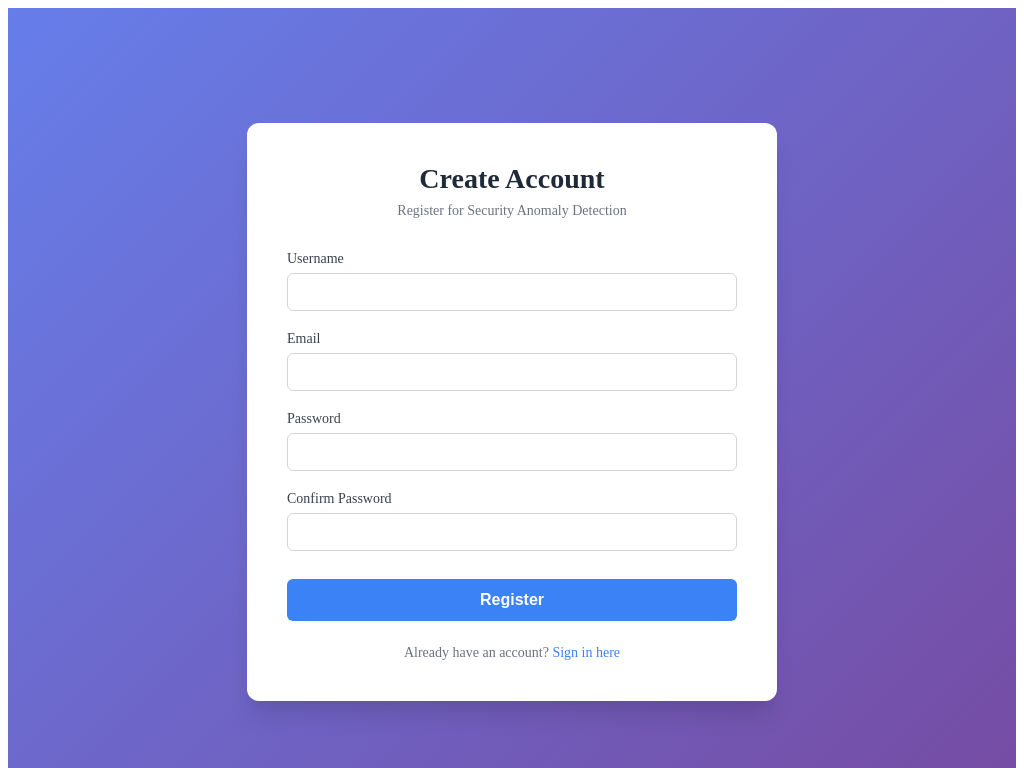
Test case: Register Component › should display error message on failed registration
In the field labelled "Username": (512, 292) left=287, top=273, right=737, bottom=311, type "existinguser"
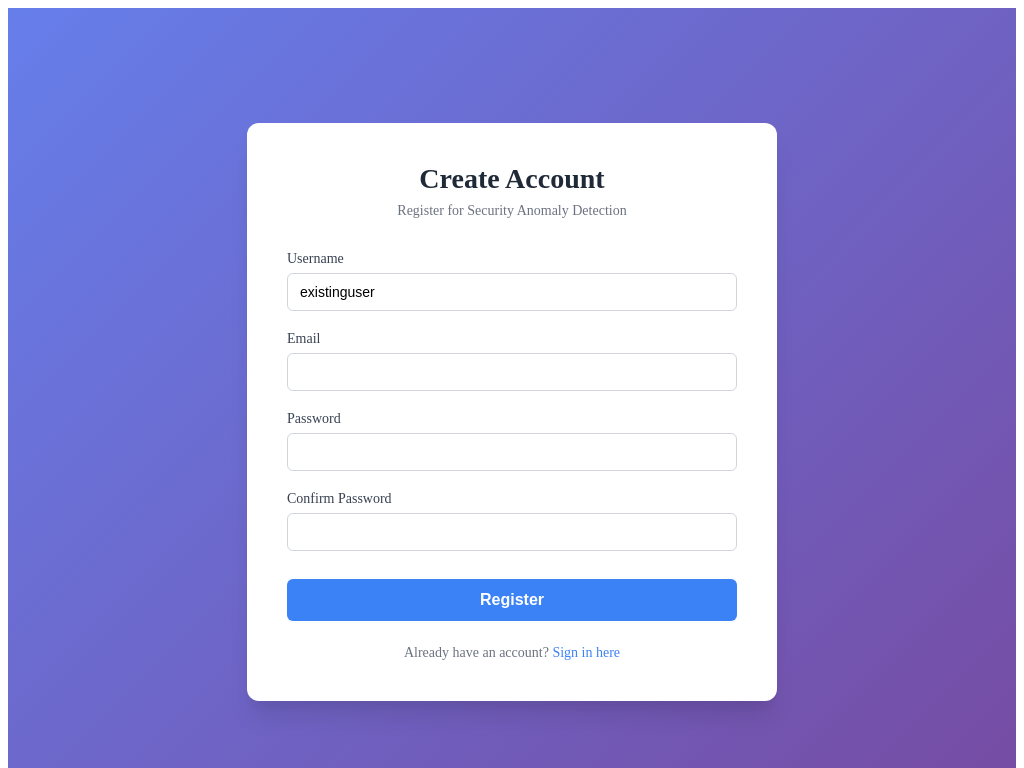
In the field labelled "Email": (512, 372) left=287, top=353, right=737, bottom=391, type "test@example.com"
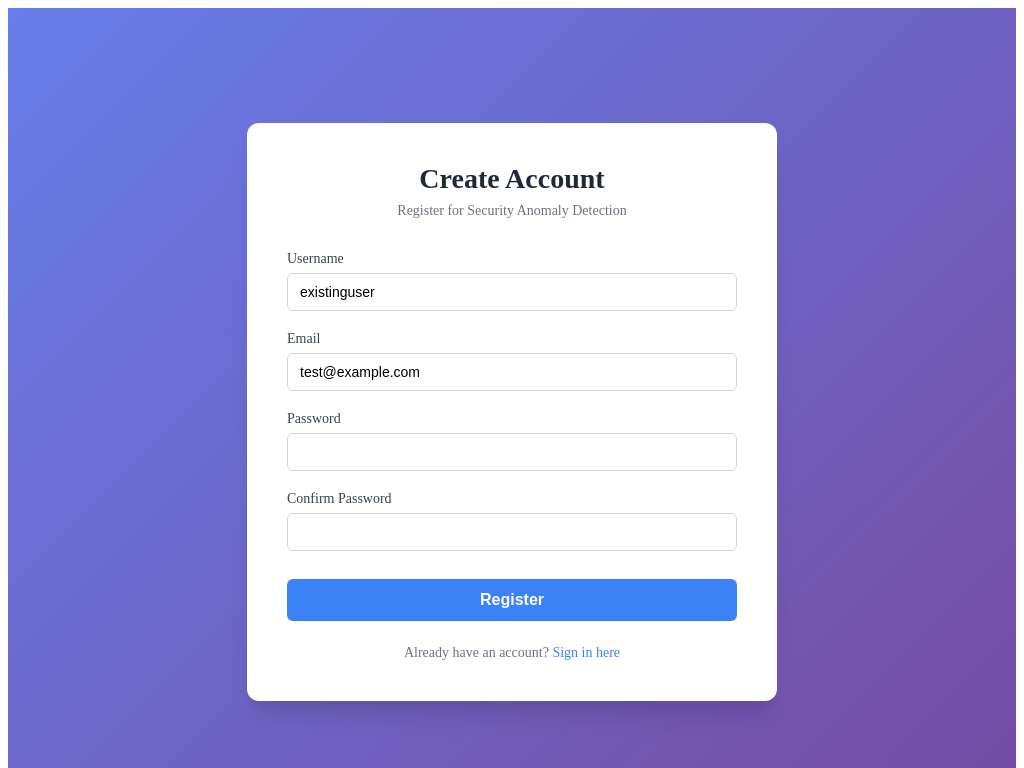
In the password field labelled "Password": (512, 452) left=287, top=433, right=737, bottom=471, type "password123"
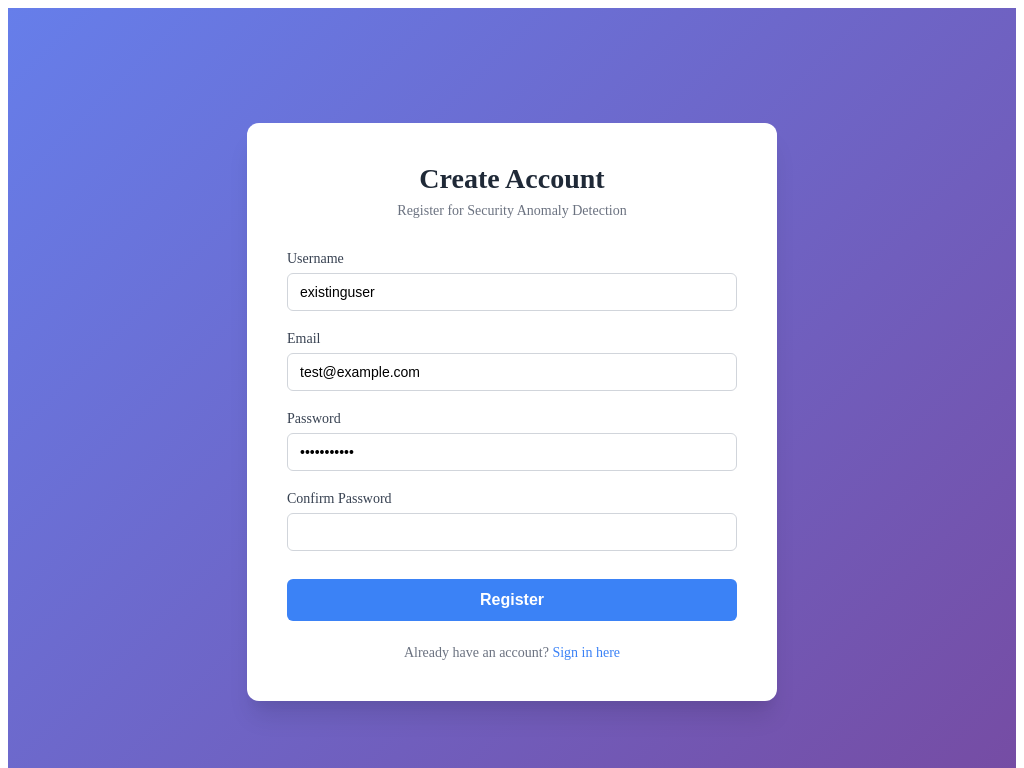
In the password field labelled "Confirm Password": (512, 532) left=287, top=513, right=737, bottom=551, type "password123"
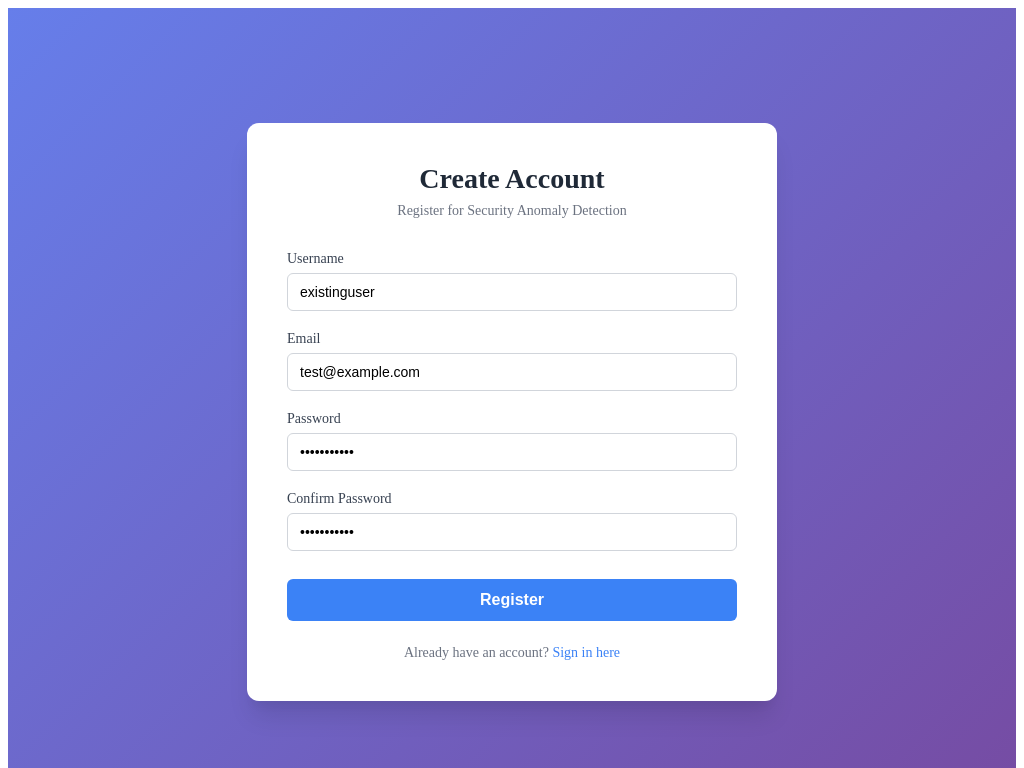
Click the button "Register": (512, 600) left=287, top=579, right=737, bottom=621
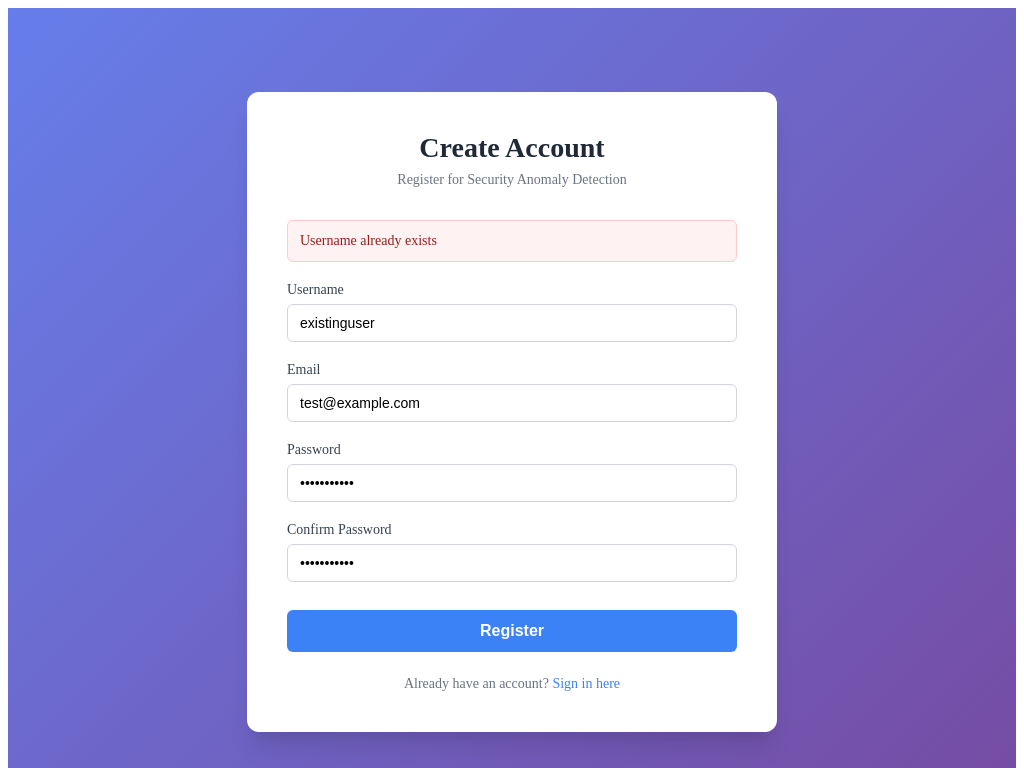
expect the text "Username already exists" is shown: met, box left=287, top=220, right=737, bottom=262
